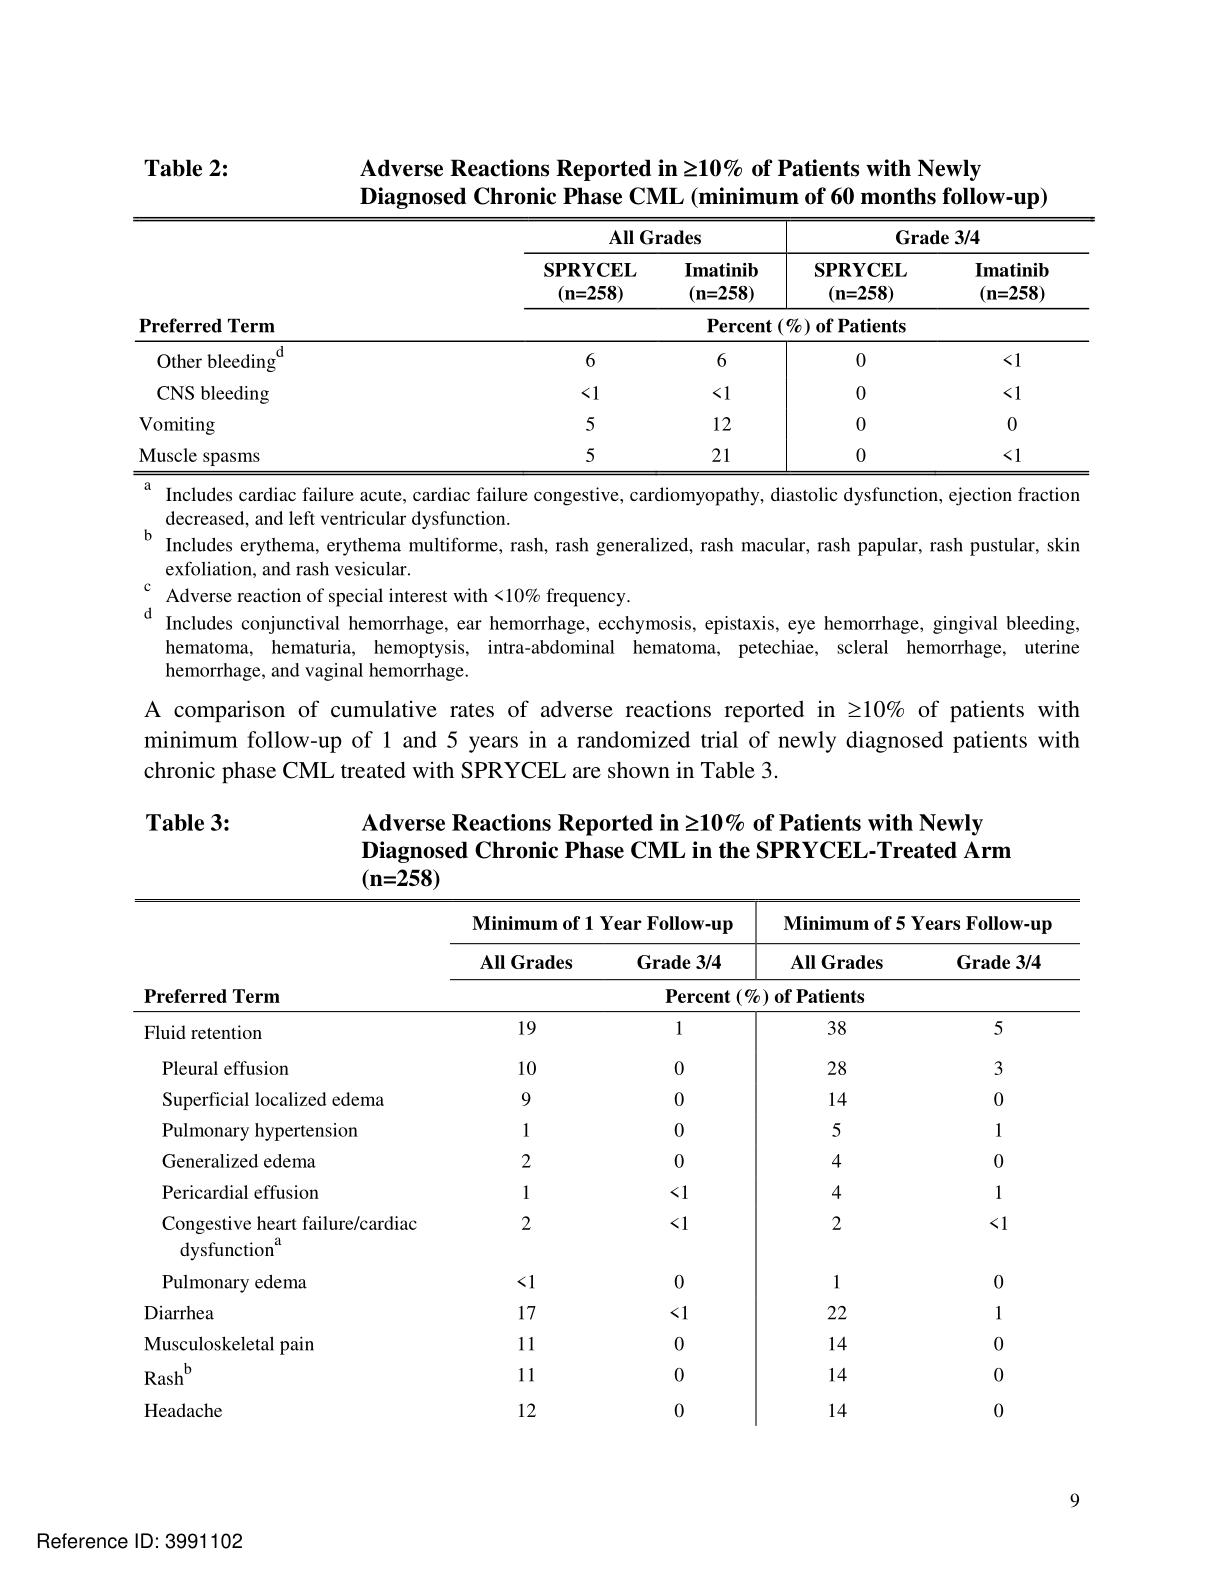partial_lined_merged_cells: (134, 897, 1081, 1428), (129, 210, 1097, 478)
